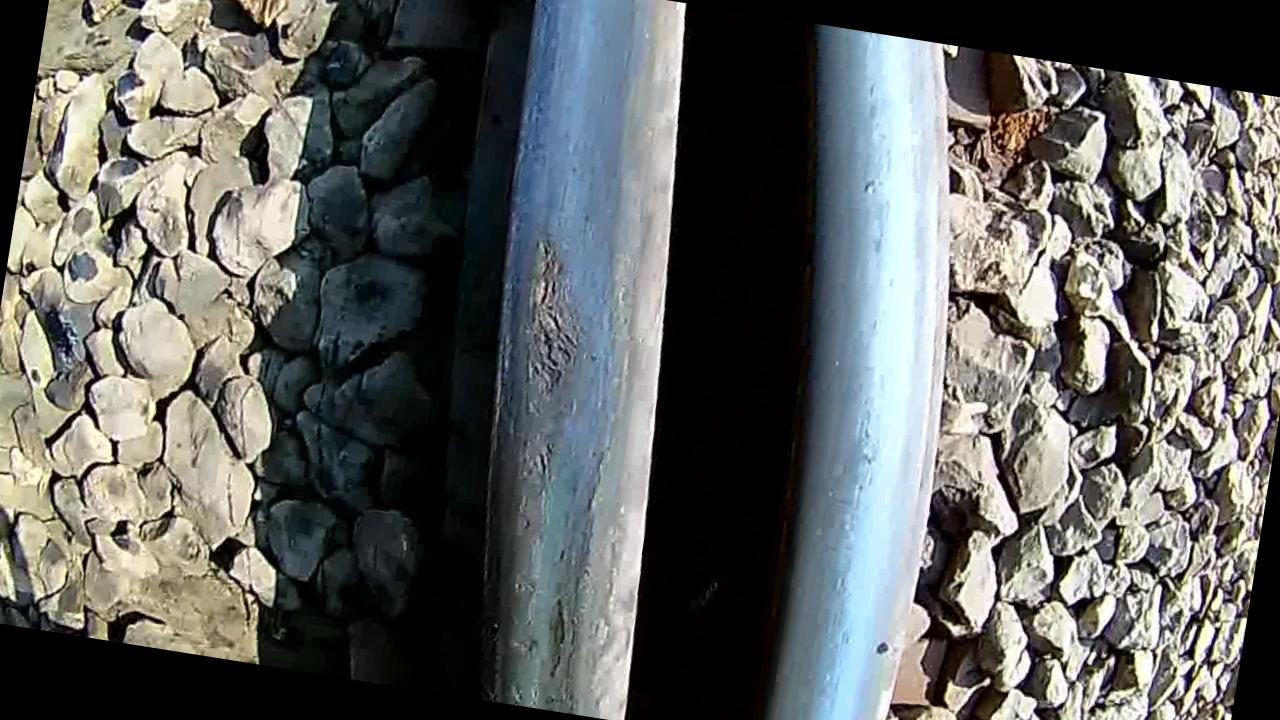crack: (430, 131, 700, 720)
